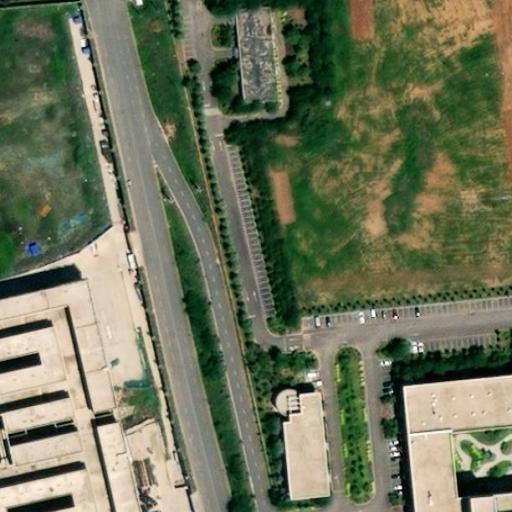building: (407, 378, 512, 512), (232, 4, 274, 125), (281, 397, 325, 500), (457, 498, 504, 512)
